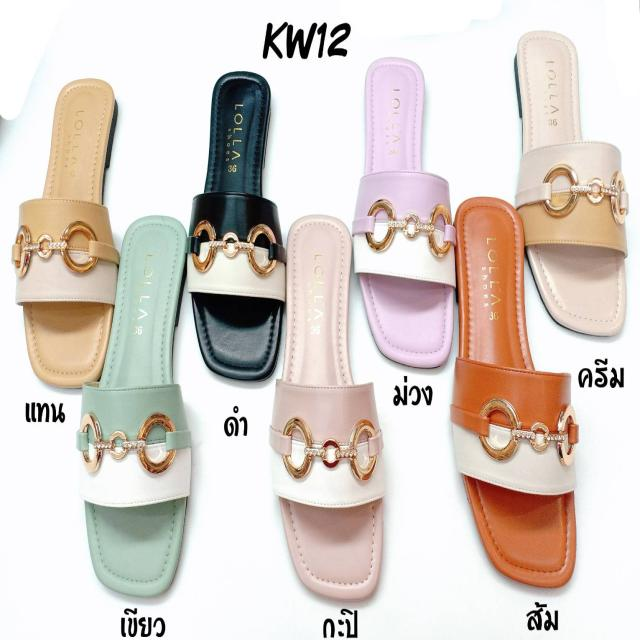black: (198, 74, 282, 376)
cream: (518, 30, 626, 338)
green: (80, 216, 192, 593)
kapi: (277, 212, 381, 600)
orange: (453, 190, 578, 584)
purple: (357, 62, 454, 365)
tan: (24, 77, 115, 391)
